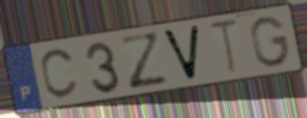3: (82, 39, 123, 95)
C: (38, 46, 81, 102)
G: (248, 14, 293, 69)
T: (207, 17, 242, 79)
V: (159, 23, 203, 83)
Z: (117, 30, 172, 93)
